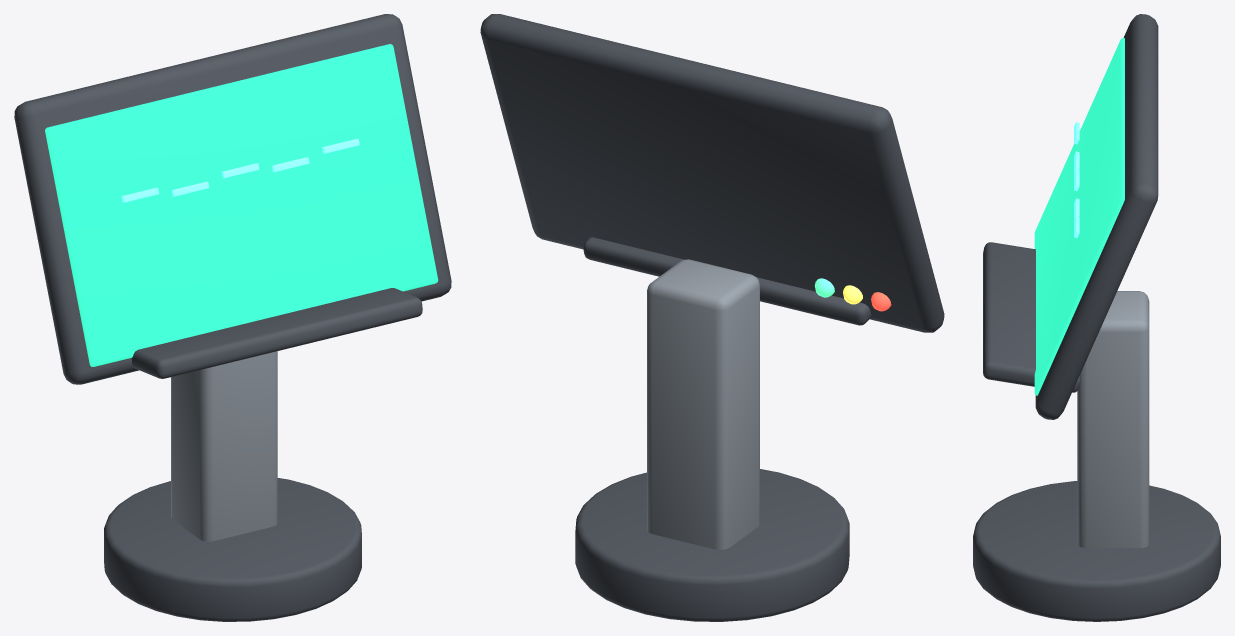
Rendered from console.glb.
The picture shows the model from 3 angles, left to right: view 1: azimuth 30°, elevation 25°; view 2: azimuth 150°, elevation 25°; view 3: azimuth 270°, elevation 25°; orthographic projection. The views are drawn at different scales.
Visible parts, largest first — view 1: Cube.002, Cylinder, Cube.001, Cube, Cube.008; view 2: Cube.001, Cube, Cylinder, Cube.008; view 3: Cylinder, Cube, Cube.002, Cube.001, Cube.008.
Boxes of the visible parts, bbox=[...] form: Cube.002: bbox=[45, 44, 438, 366]; Cylinder: bbox=[104, 478, 361, 621]; Cube.001: bbox=[14, 14, 451, 384]; Cube: bbox=[171, 351, 277, 541]; Cube.008: bbox=[131, 288, 422, 378]; Cube.001: bbox=[480, 14, 944, 332]; Cube: bbox=[647, 259, 759, 549]; Cylinder: bbox=[575, 469, 849, 621]; Cube.008: bbox=[583, 237, 871, 325]; Cylinder: bbox=[973, 481, 1220, 621]; Cube: bbox=[1077, 291, 1149, 548]; Cube.002: bbox=[1034, 38, 1124, 395]; Cube.001: bbox=[1035, 14, 1158, 419]; Cube.008: bbox=[983, 242, 1080, 392].
Size of the model in its own units: 1.3 by 1.6 by 0.76.
